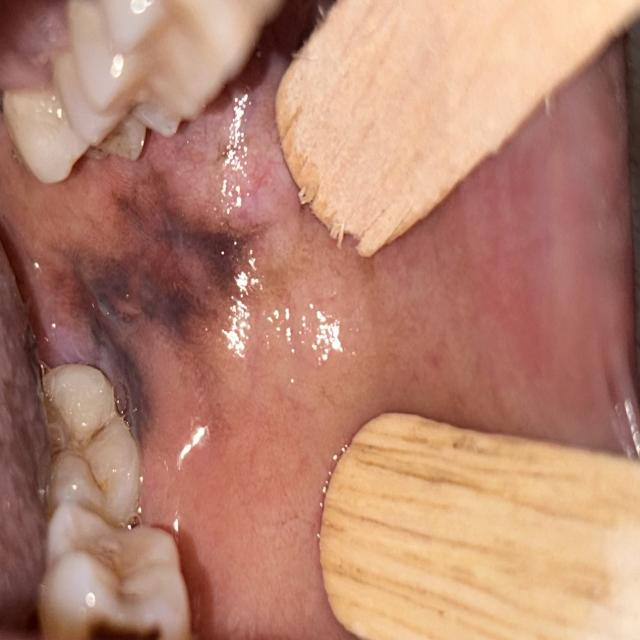leukoplakia-detection: (28, 60, 300, 455)
processing_area: (0, 62, 638, 638)
